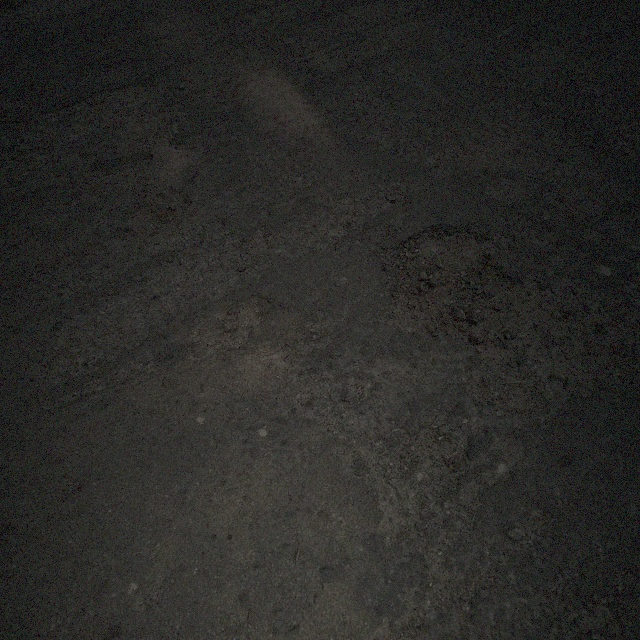pothole: (372, 220, 518, 335), (361, 420, 473, 540), (218, 292, 274, 348)
